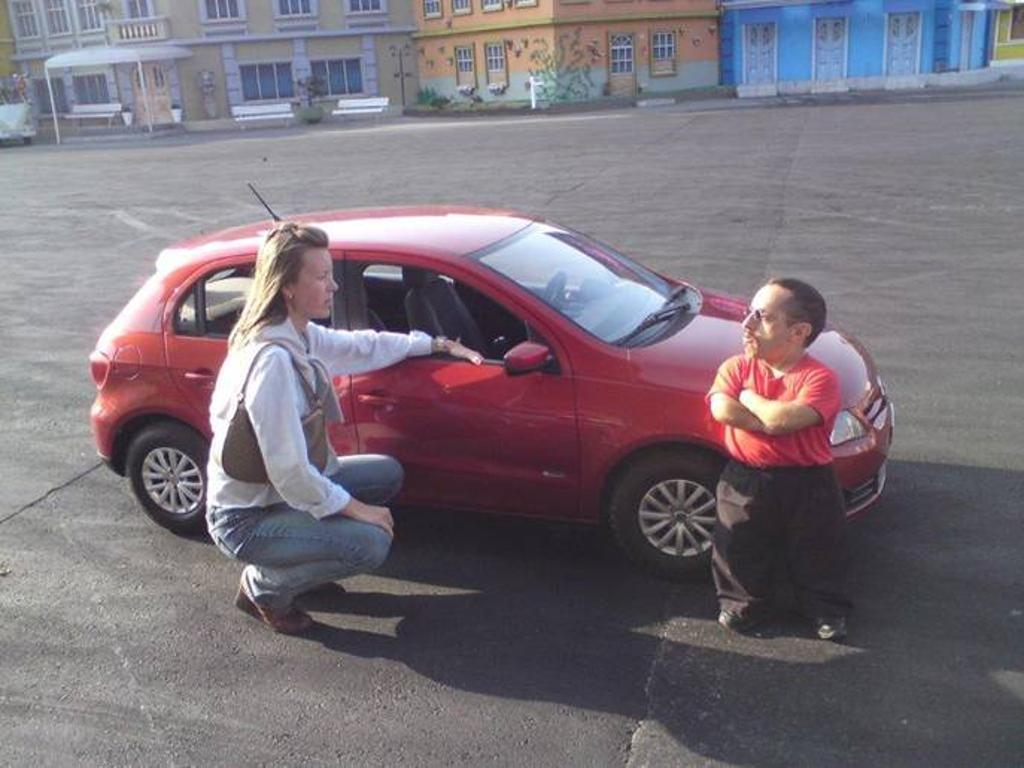face: (743, 285, 788, 359), (297, 248, 337, 318)
